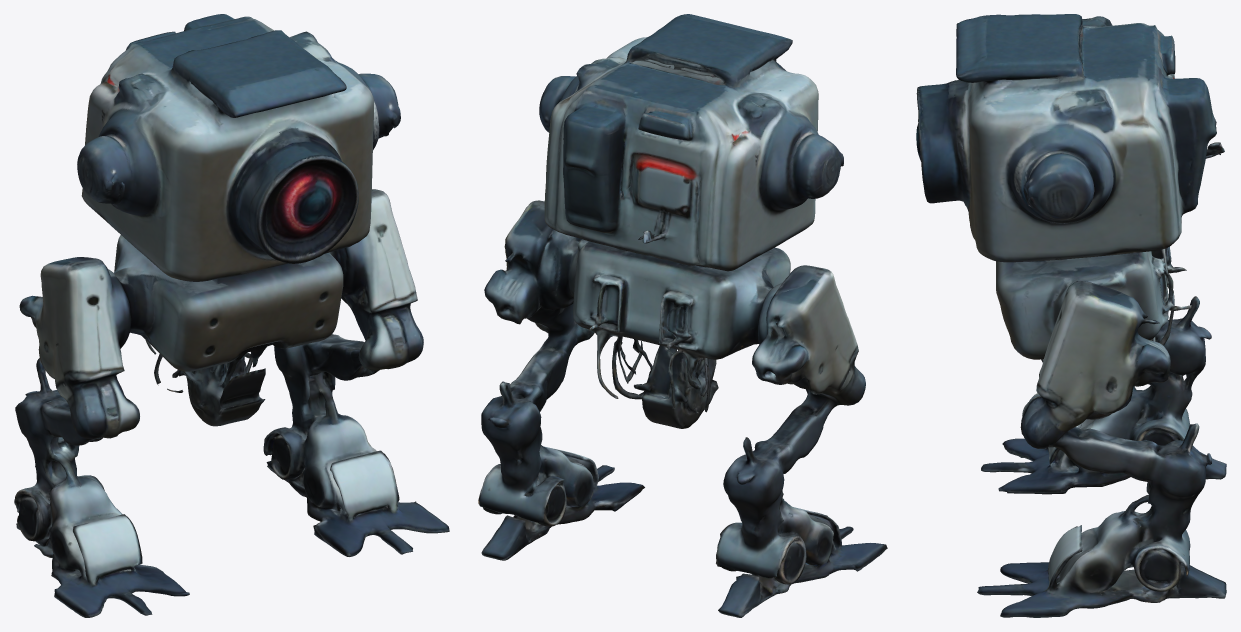
File: LensBot_Explorer_1105213805.glb
3 renders of one model, left to right at view 1: azimuth 30°, elevation 25°; view 2: azimuth 150°, elevation 25°; view 3: azimuth 270°, elevation 25°, orthographic. The views are drawn at different scales.
Bounding box in the file's own units: 1.5 × 2 × 1.13.
Materials: 1 (1 with a texture image).
